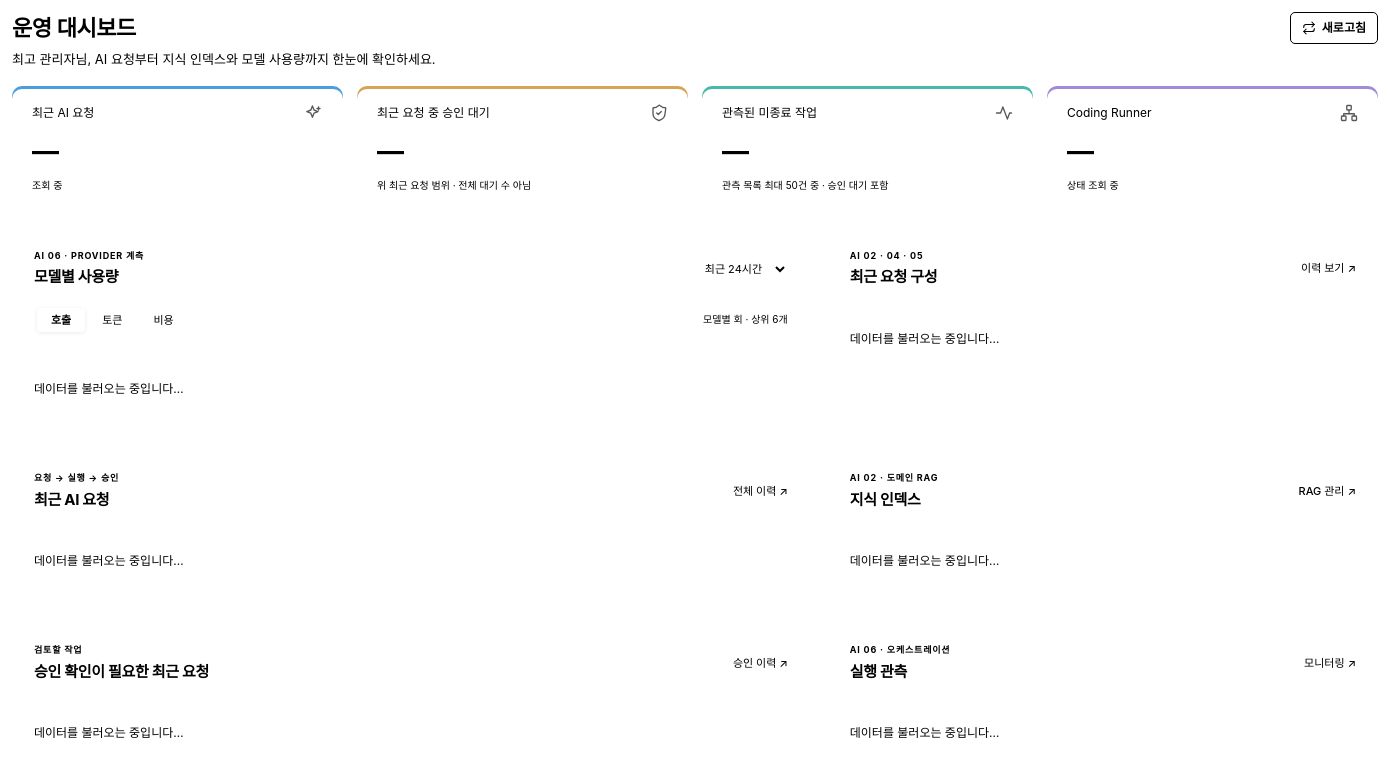
Test: changing the period aborts old metrics and ignores an out-of-order response
Select "최근 7일" in the dropdown named "모델 사용량 기간". click: [740, 269]
box: left=692, top=255, right=788, bottom=283
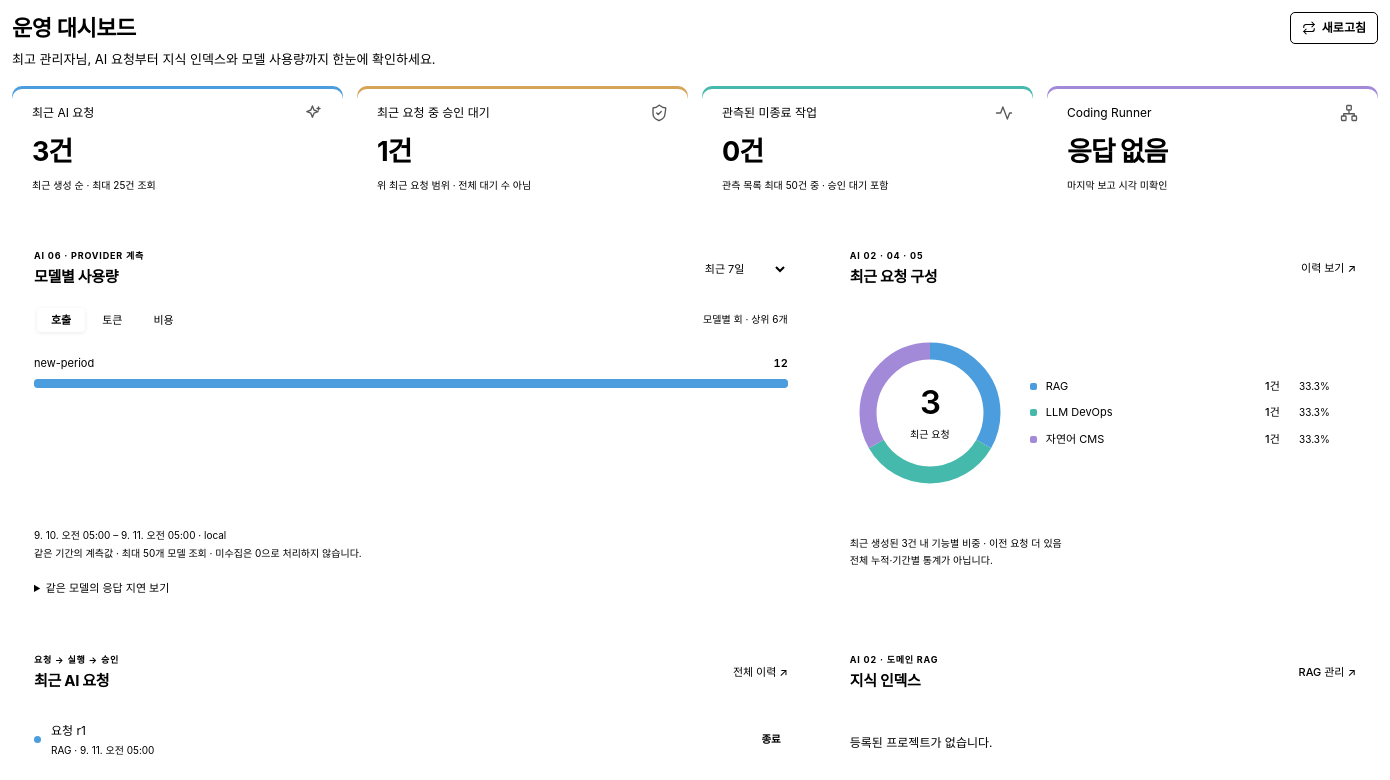
Expected: the text titled "new-period" is shown, left=34, top=355, right=94, bottom=372
